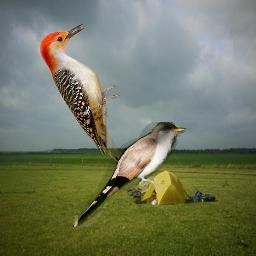Cuckoo: (73, 122, 187, 227)
Woodpecker: (39, 23, 130, 175)
